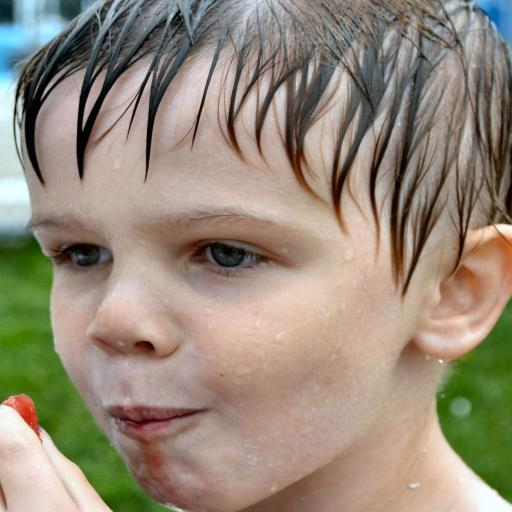Autism: (16, 10, 492, 510)
